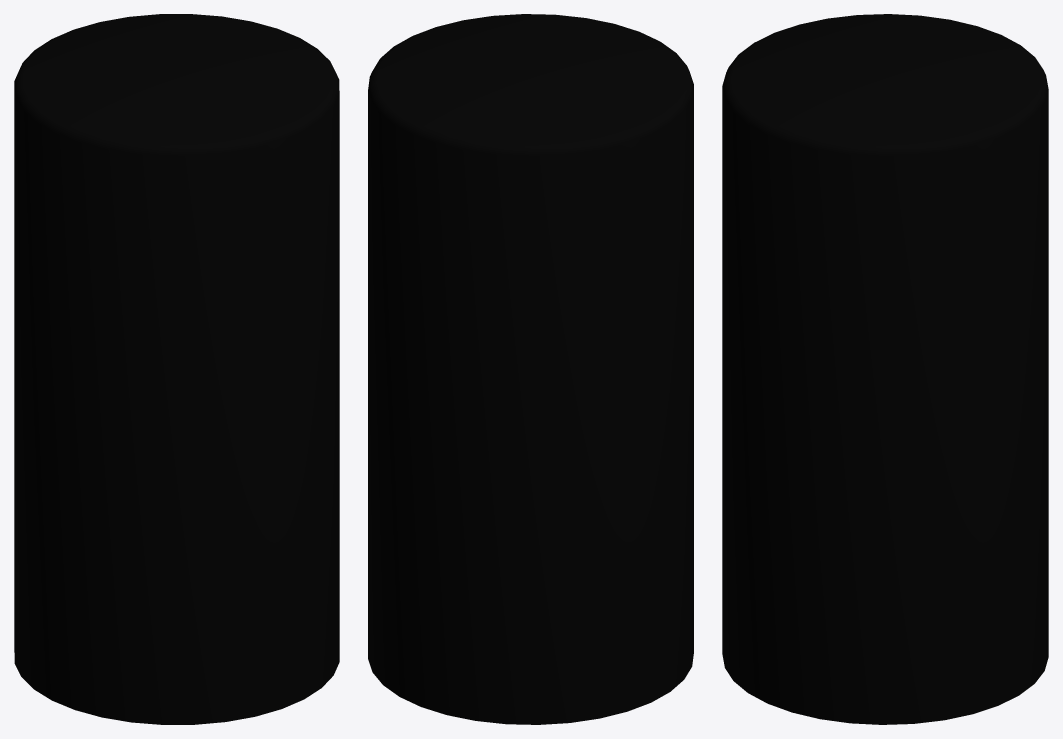
The model's file is p_mesh_minehub_caster_impactglow01.fbx.
The picture shows the model from 3 angles, left to right: view 1: azimuth 30°, elevation 25°; view 2: azimuth 150°, elevation 25°; view 3: azimuth 270°, elevation 25°; orthographic projection.
Parts seen in each view (by area): view 1: Glowing01; view 2: Glowing01; view 3: Glowing01.
Boxes of the visible parts, <box> form: Glowing01: <box>14,14,339,724</box>; Glowing01: <box>368,14,693,724</box>; Glowing01: <box>722,14,1048,724</box>.
Size of the model in its own units: 18.81 by 36.69 by 18.81.
